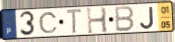3: (18, 10, 38, 38)
B: (115, 5, 135, 33)
C: (38, 11, 59, 35)
H: (85, 6, 110, 35)
J: (139, 6, 155, 30)
T: (65, 8, 84, 36)
